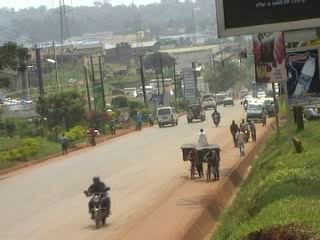Car: (184, 103, 207, 124), (220, 95, 234, 109), (253, 88, 268, 101), (242, 94, 255, 104)
Motorcycle: (82, 178, 114, 232), (210, 108, 220, 128), (244, 98, 249, 112)
